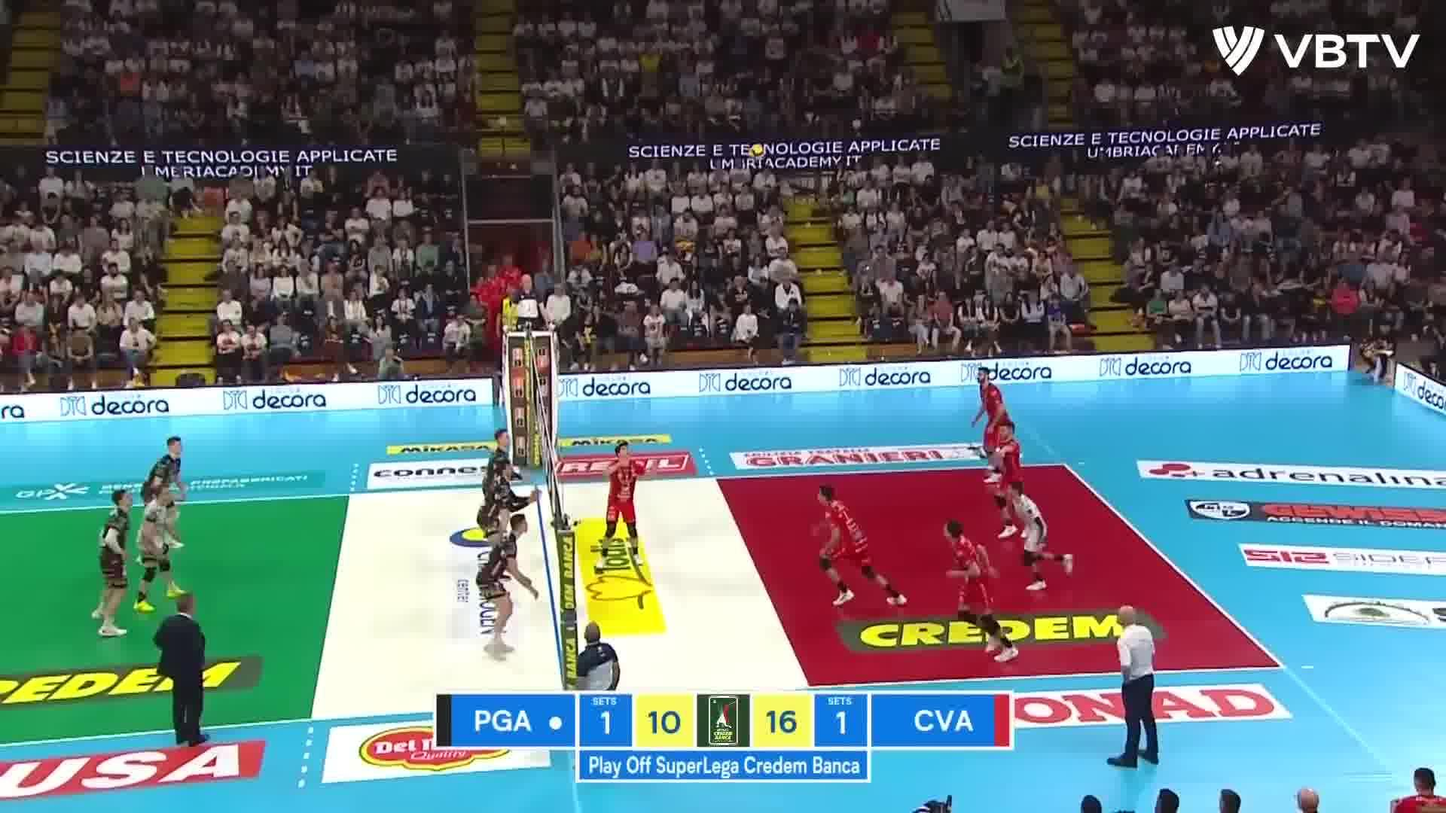balls: (743, 140, 770, 162)
